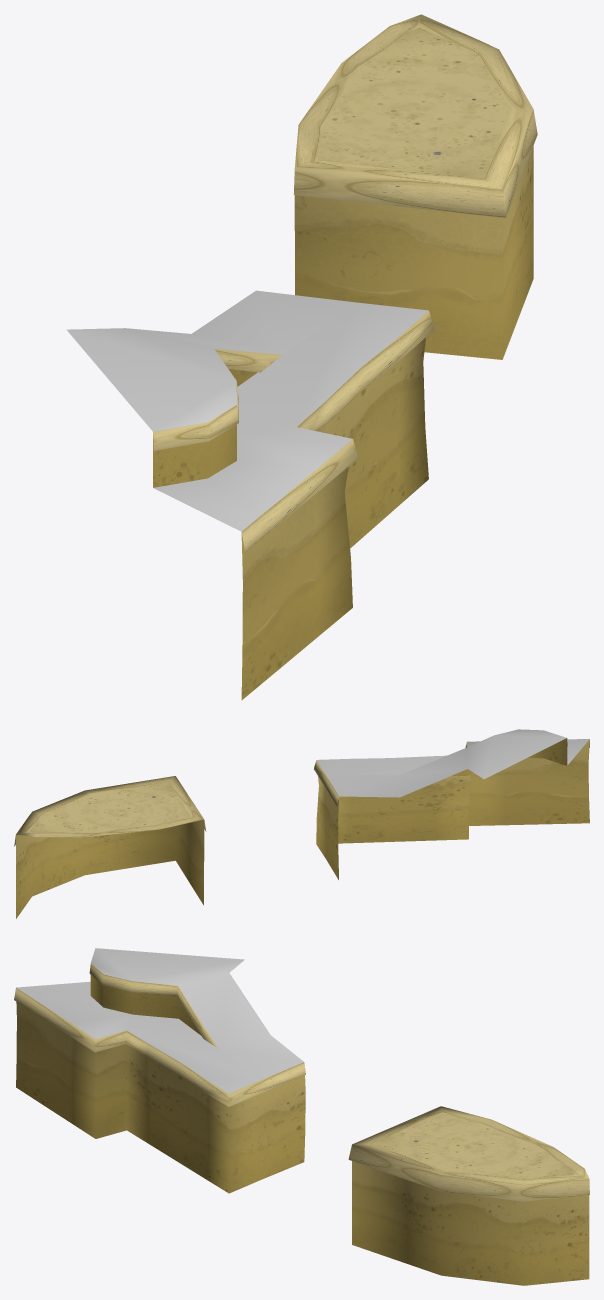
Rendered from double mesh.fbx.
3 views of the same model, one above another, from view 1: azimuth 30°, elevation 25°; view 2: azimuth 150°, elevation 25°; view 3: azimuth 270°, elevation 25° (orthographic). The views are drawn at different scales.
Visible parts, largest first — view 1: polySurface20; view 2: polySurface20; view 3: polySurface20.
Part boxes in pixels (bbox=[...]): polySurface20: bbox=[66, 14, 537, 700]; polySurface20: bbox=[14, 729, 589, 918]; polySurface20: bbox=[14, 948, 589, 1285].
Bounding box in the file's own units: 0.4062 × 0.1242 × 0.4808.
